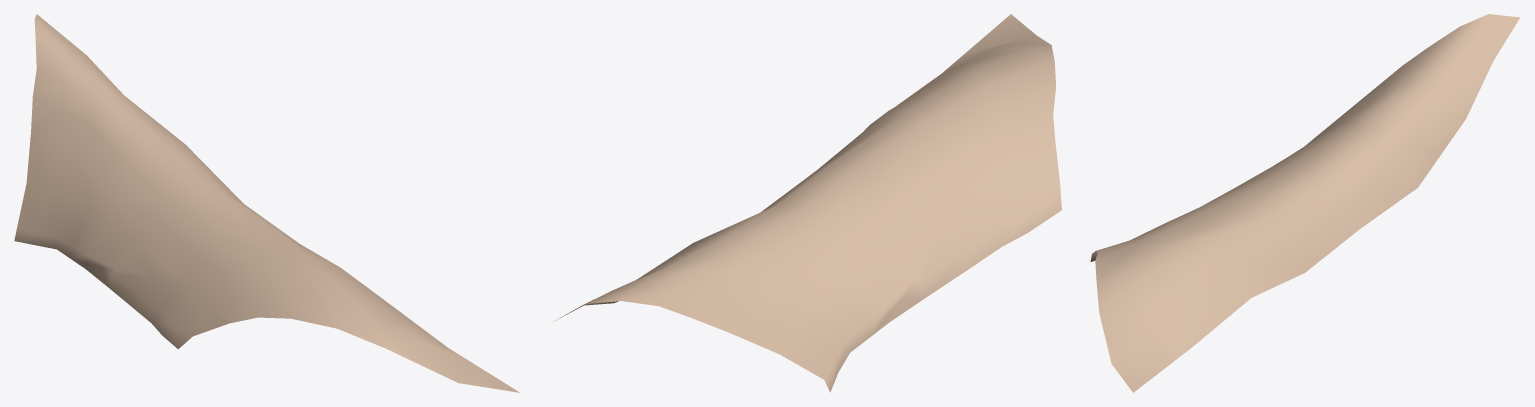
The picture shows the model from 3 angles, left to right: view 1: azimuth 30°, elevation 25°; view 2: azimuth 150°, elevation 25°; view 3: azimuth 330°, elevation 25°; orthographic projection. The views are drawn at different scales.
Parts seen in each view (by area): view 1: 右侧胸腰筋膜中层; view 2: 右侧胸腰筋膜中层; view 3: 右侧胸腰筋膜中层.
Part boxes in pixels (box(x1,y1,x2,y2)): 右侧胸腰筋膜中层: box(14, 14, 519, 392); 右侧胸腰筋膜中层: box(550, 14, 1061, 392); 右侧胸腰筋膜中层: box(1090, 14, 1520, 392).
Size of the model in its own units: 0.0672 by 0.0403 by 0.2682.
